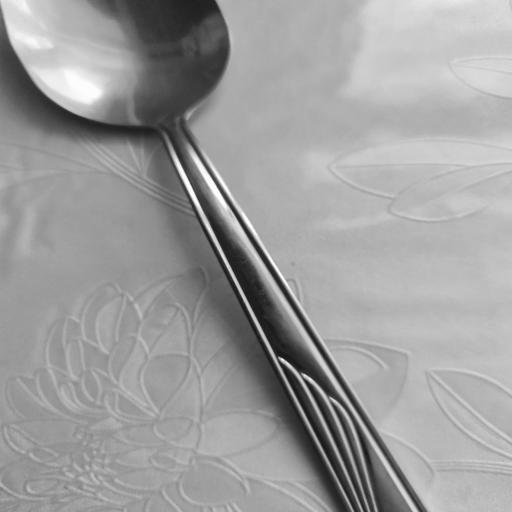spoon: (4, 0, 420, 512)
